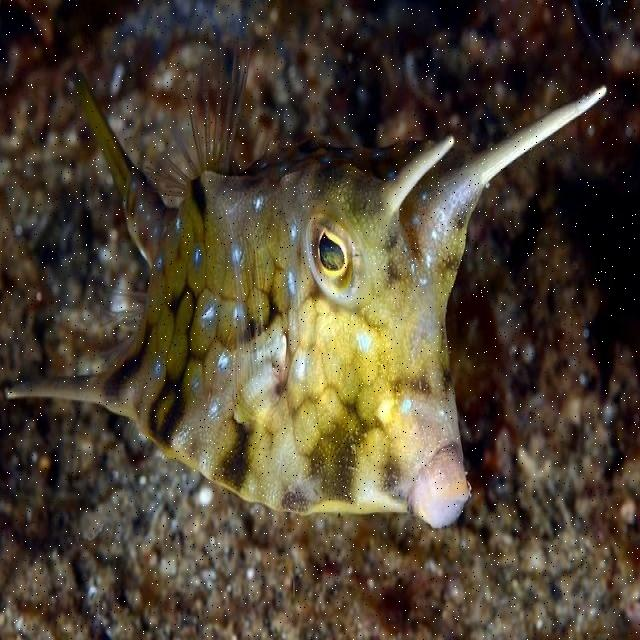fish: (7, 41, 608, 528)
